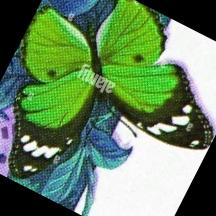butterfly: (7, 0, 214, 179)
